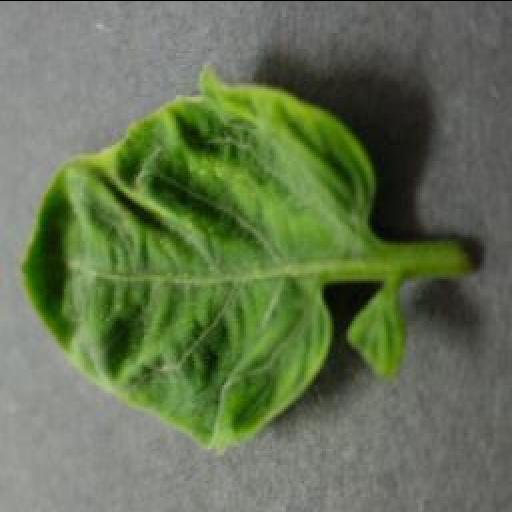disease_tomato: (18, 60, 382, 450)
